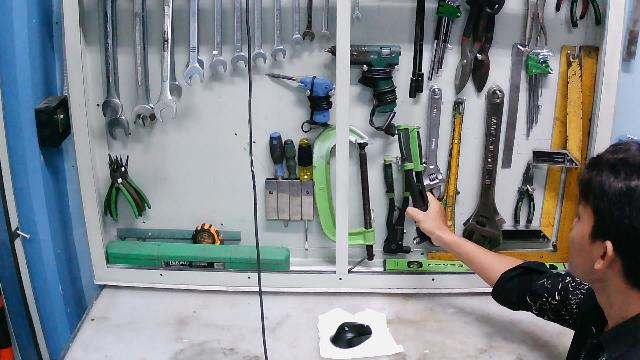tang_rivet: (393, 119, 438, 244)
